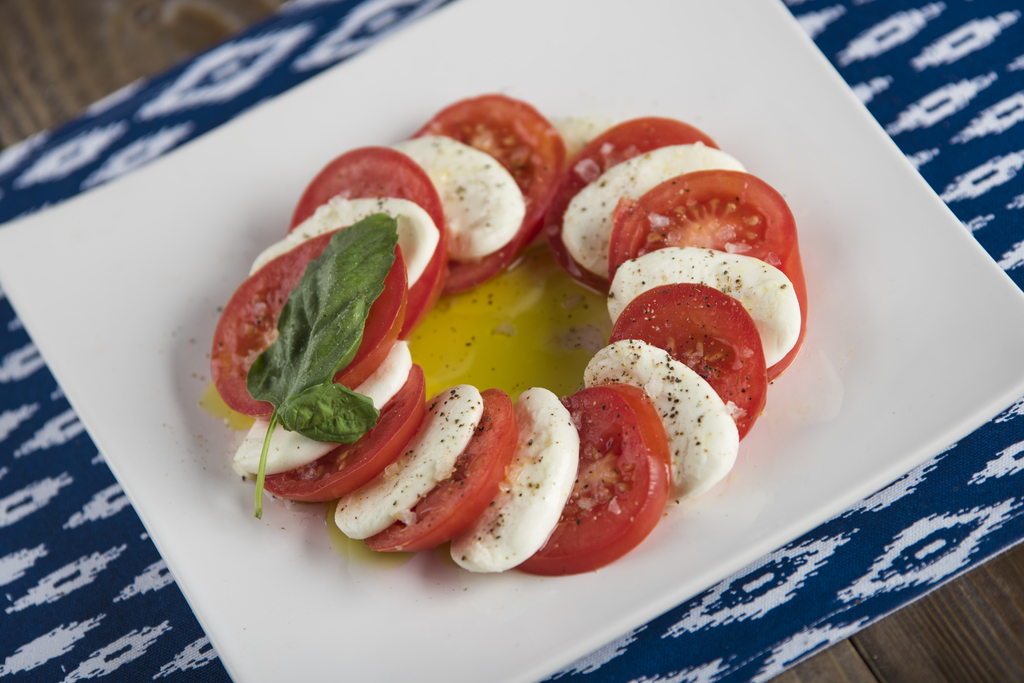Tomato: (608, 168, 807, 381), (210, 228, 410, 422), (545, 116, 720, 294), (412, 95, 567, 293), (290, 149, 450, 338), (516, 381, 671, 575), (607, 283, 766, 442), (366, 387, 517, 551), (263, 364, 426, 502)
